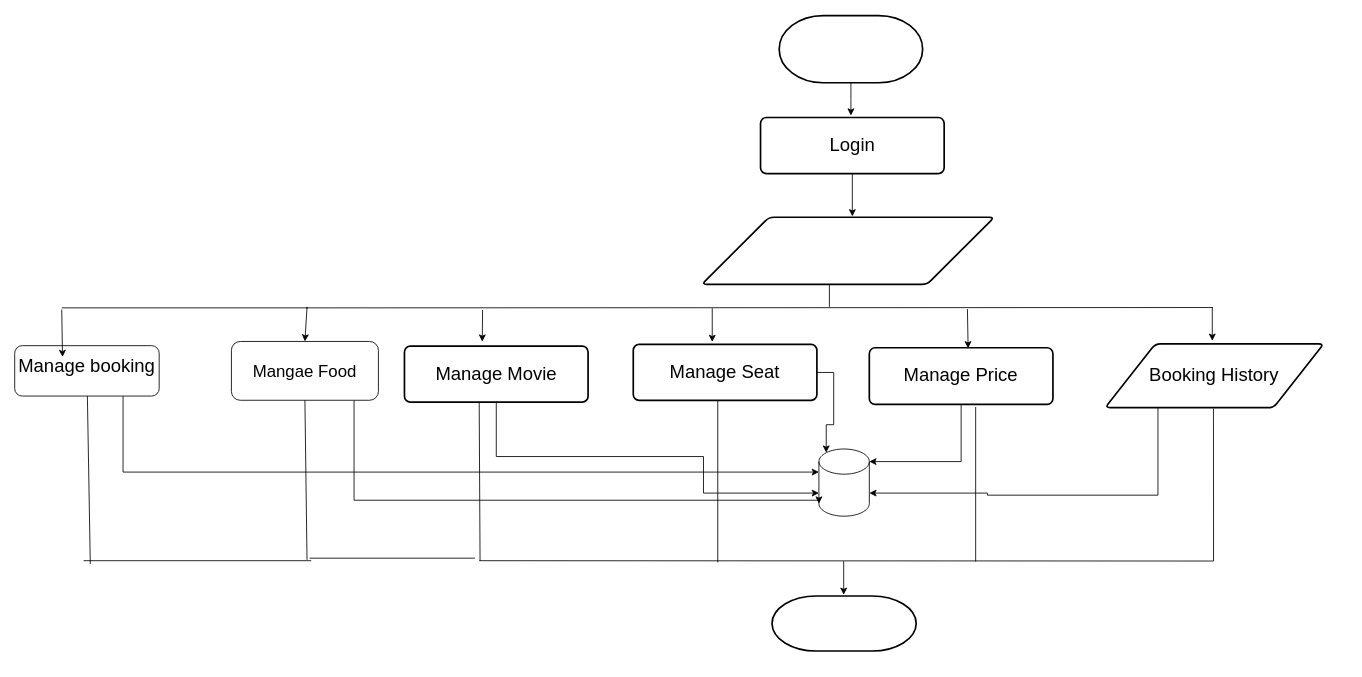
The diagram is 1362 pixels wide and 677 high, and some of its shapes have lost their labels. The shapes that lost their labels are listed below. From the top down, each one's centre as x and y in pixels, then its label:
At point 850,48: "Start".
At point 847,250: "Admin Dashboard".
At point 844,623: "End".
